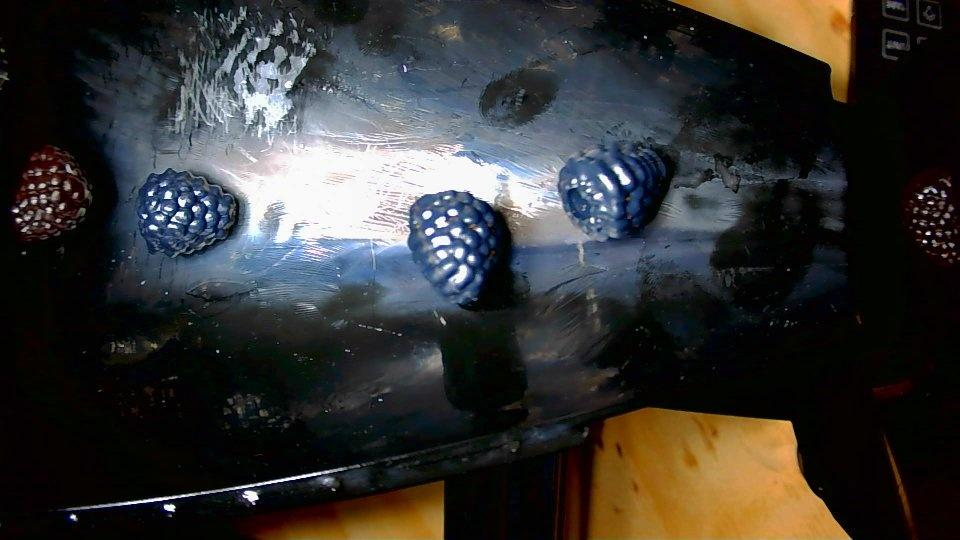berry: (407, 190, 508, 306), (557, 140, 672, 240), (137, 168, 237, 256), (10, 145, 91, 239), (901, 168, 959, 265)
